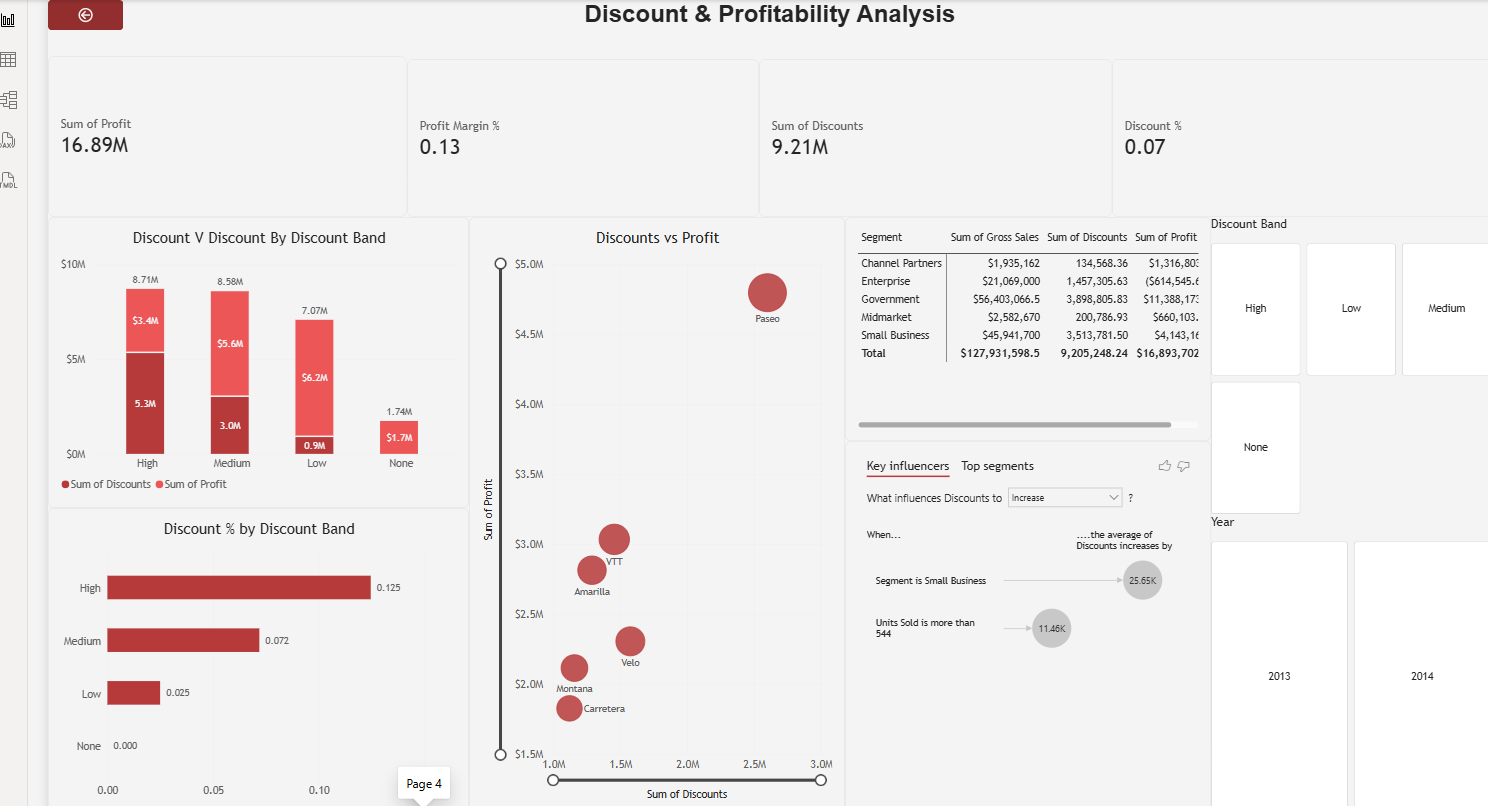

The page's visual inventory and layout, read from the dashboard file:
{"tool":"powerbi","page":{"name":"Page 4","canvas":[1920,1080],"ordinal":3},"visuals":[{"type":"cardVisual","title":"Total Sale","fields":{"Data":["Sum(financials.Profit)"]},"box":[0,74.5,477.5,214.1],"z":0},{"type":"cardVisual","title":"Total Sale","fields":{"Data":["financials.Profit Margin %"]},"box":[477.5,78.5,468.2,210.1],"z":1000},{"type":"cardVisual","title":"Total Sale","fields":{"Data":["Sum(financials.Discounts)"]},"box":[945.7,78.5,469.5,210.1],"z":2000},{"type":"cardVisual","title":"Total Sale","fields":{"Data":["financials.Discount %"]},"box":[1414.6,78.5,505.4,210.1],"z":3000},{"type":"textbox","box":[0,0,1920.6,74.5],"z":4000},{"type":"columnChart","title":"Discount V Discount By Discount Band","fields":{"Category":["financials.Discount Band"],"Y":["Sum(financials.Discounts)","Sum(financials.Profit)"]},"box":[0,288.6,560,387],"z":5000},{"type":"clusteredBarChart","title":"Discount % by Discount Band","fields":{"Category":["financials.Discount Band"],"Y":["financials.Discount %"]},"box":[0,675.7,560,404.3],"z":6000},{"type":"scatterChart","title":"Discounts vs Profit","fields":{"X":["Sum(financials.Discounts)"],"Y":["Sum(financials.Profit)"],"Category":["financials.Product"],"Size":["Sum(financials.Gross Sales)"]},"box":[560,288.6,500.1,791.4],"z":7000},{"type":"advancedSlicerVisual","fields":{"Values":["financials.Discount Band"]},"box":[1546.8,288.6,373.7,396.4],"z":8000},{"type":"advancedSlicerVisual","fields":{"Values":["financials.Date.Variation.Date Hierarchy.Year"]},"box":[1546.8,685,373.7,395],"z":9000},{"type":"actionButton","box":[0,0,100,40],"z":10000},{"type":"pivotTable","fields":{"Rows":["financials.Product","financials.Segment"],"Values":["Sum(financials.Gross Sales)","Sum(financials.Discounts)","Sum(financials.Profit)"]},"box":[1060,288.6,486.8,297.9],"z":11000},{"type":"keyDriversVisual","fields":{"ExplainBy":["financials.Product","financials.Segment","financials.Discount Band","financials.Country","financials.Units Sold"],"Target":["financials.Discounts"]},"box":[1060,586.6,486.8,493.4],"z":12000}]}

Visuals, with their boxes on the page's 1920x1080 design canvas (x1, y1, x2, y2). These are canvas units, not pixel positions in the 1488x806 screenshot, which may show the page scaled, cropped or inside an application window:
"Total Sale" cardVisual: left=0, top=74, right=478, bottom=289
"Total Sale" cardVisual: left=478, top=78, right=946, bottom=289
"Total Sale" cardVisual: left=946, top=78, right=1415, bottom=289
"Total Sale" cardVisual: left=1415, top=78, right=1920, bottom=289
textbox: left=0, top=0, right=1921, bottom=74
"Discount V Discount By Discount Band" columnChart: left=0, top=289, right=560, bottom=676
"Discount % by Discount Band" clusteredBarChart: left=0, top=676, right=560, bottom=1080
"Discounts vs Profit" scatterChart: left=560, top=289, right=1060, bottom=1080
advancedSlicerVisual - financials.Discount Band: left=1547, top=289, right=1920, bottom=685
advancedSlicerVisual - financials.Date.Variation.Date Hierarchy.Year: left=1547, top=685, right=1920, bottom=1080
actionButton: left=0, top=0, right=100, bottom=40
pivotTable - financials.Product x financials.Segment: left=1060, top=289, right=1547, bottom=586
keyDriversVisual - financials.Product x financials.Segment: left=1060, top=587, right=1547, bottom=1080
